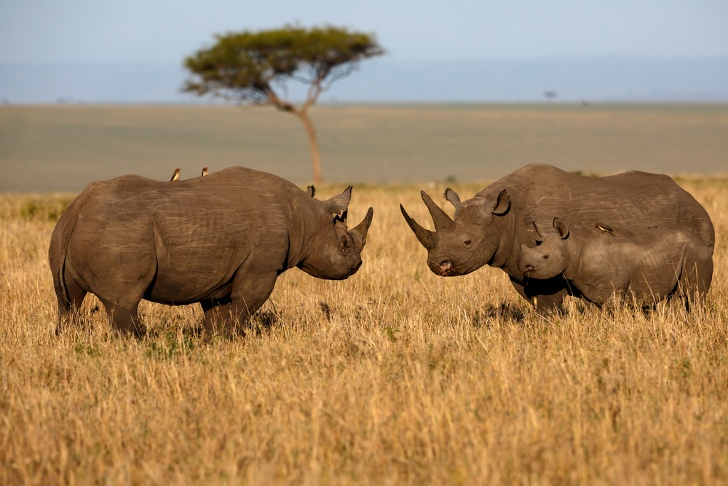rhino: (45, 160, 377, 346), (399, 160, 716, 317), (518, 214, 704, 319)
